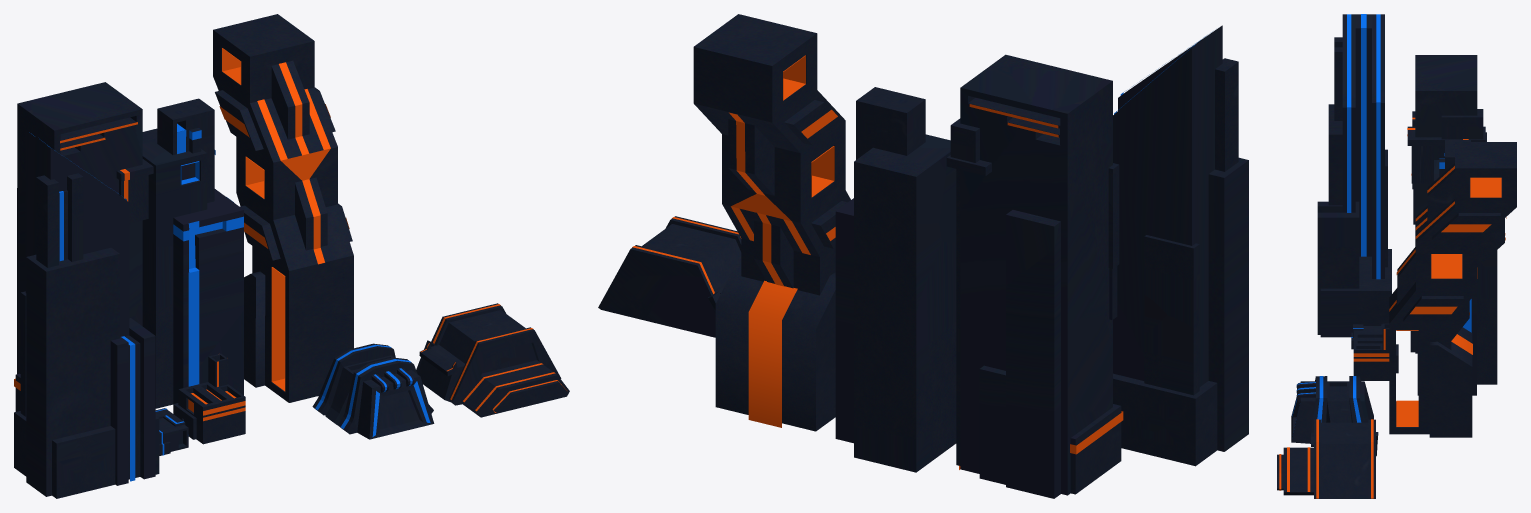
Rendered from Full Building Package.fbx.
3 renders of one model, left to right at view 1: azimuth 30°, elevation 25°; view 2: azimuth 150°, elevation 25°; view 3: azimuth 270°, elevation 25°, orthographic. The views are drawn at different scales.
Visible parts, largest first — view 1: Green Building, Beige Building, Pink Building, Blue Building, Pink Factory, Blue Factory, Neon6, Pink House, Neon4, Neon7, Neon2, Blue House (+2 smaller); view 2: Blue Building, Green Building, Pink Building, Beige Building, Pink Factory, Neon6, Neon3; view 3: Beige Building, Green Building, Blue Building, Pink Factory, Pink Building, Neon2, Neon6, Blue Factory, Pink House, Neon8, Neon7, Neon5 (+1 smaller).
Boxes of the visible parts, <box> form: Green Building: <box>14,130,159,498</box>; Beige Building: <box>213,14,353,402</box>; Pink Building: <box>142,98,243,408</box>; Blue Building: <box>15,82,153,411</box>; Pink Factory: <box>416,303,569,417</box>; Blue Factory: <box>312,343,434,439</box>; Neon6: <box>219,48,349,391</box>; Pink House: <box>173,353,245,444</box>; Neon4: <box>173,123,243,386</box>; Neon7: <box>315,344,430,436</box>; Neon2: <box>29,132,135,481</box>; Blue House: <box>155,408,188,455</box>; Blue Building: <box>946,54,1121,498</box>; Green Building: <box>1113,25,1248,466</box>; Pink Building: <box>835,87,956,472</box>; Beige Building: <box>693,14,850,431</box>; Pink Factory: <box>598,216,741,337</box>; Neon6: <box>729,55,837,427</box>; Neon3: <box>959,104,1123,469</box>; Beige Building: <box>1389,142,1516,437</box>; Green Building: <box>1317,14,1391,337</box>; Blue Building: <box>1407,55,1486,353</box>; Pink Factory: <box>1277,419,1378,498</box>; Pink Building: <box>1417,140,1497,395</box>; Neon2: <box>1347,14,1380,279</box>; Neon6: <box>1389,166,1506,426</box>; Blue Factory: <box>1291,376,1373,446</box>; Pink House: <box>1353,323,1398,380</box>; Neon8: <box>1279,419,1373,498</box>; Neon7: <box>1292,376,1361,435</box>; Neon5: <box>1353,329,1389,361</box>.
Size of the model in its own units: 235 by 154 by 115.
